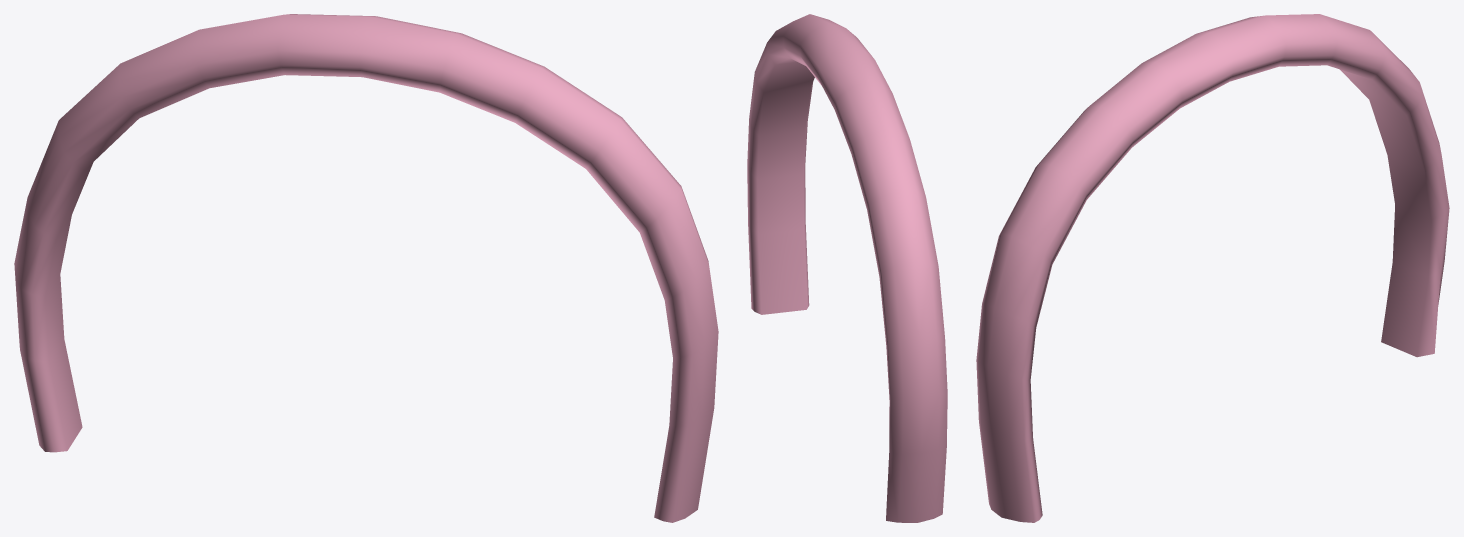
File: tiedModelLeft.glb
3 views of the same model, side by side, from view 1: azimuth 30°, elevation 25°; view 2: azimuth 150°, elevation 25°; view 3: azimuth 270°, elevation 25° (orthographic). The views are drawn at different scales.
Visible parts, largest first — view 1: tiedModelLeft; view 2: tiedModelLeft; view 3: tiedModelLeft.
Boxes of the visible parts, x1=… form: tiedModelLeft: x1=14, y1=14, x2=718, y2=522; tiedModelLeft: x1=747, y1=14, x2=947, y2=522; tiedModelLeft: x1=976, y1=14, x2=1449, y2=522.
Bounding box in the file's own units: 0.9687 × 0.8972 × 0.9688.
